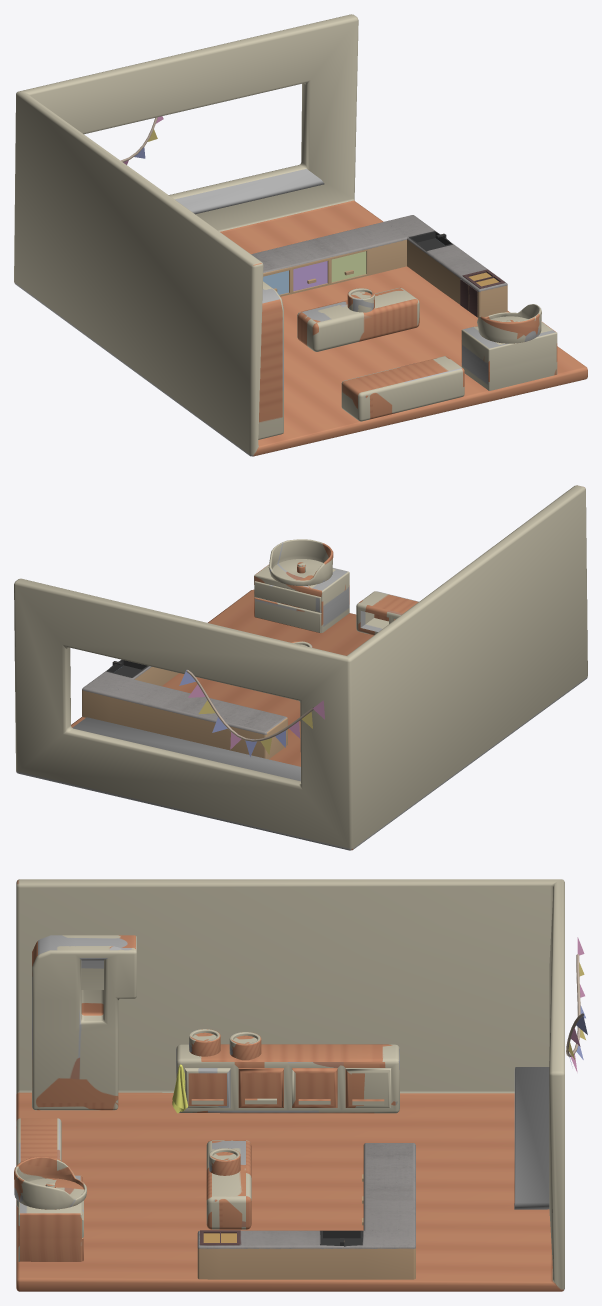
The model's file is Mesh_Enviro.fbx.
3 views of the same model, one above another, from view 1: azimuth 30°, elevation 25°; view 2: azimuth 150°, elevation 25°; view 3: azimuth 270°, elevation 25° (orthographic). The views are drawn at different scales.
Parts seen in each view (by area): view 1: cake_n_donut_desk; view 2: cake_n_donut_desk; view 3: cake_n_donut_desk.
Boxes of the visible parts, left/top/right/bottom form: cake_n_donut_desk: left=14, top=14, right=587, bottom=456; cake_n_donut_desk: left=14, top=485, right=587, bottom=850; cake_n_donut_desk: left=14, top=879, right=587, bottom=1291.
Bounding box in the file's own units: 370 × 203 × 469.
